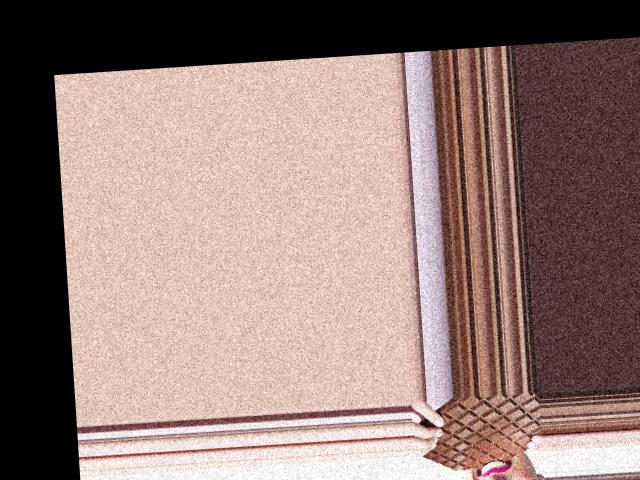chocolate: (410, 392, 542, 476)
